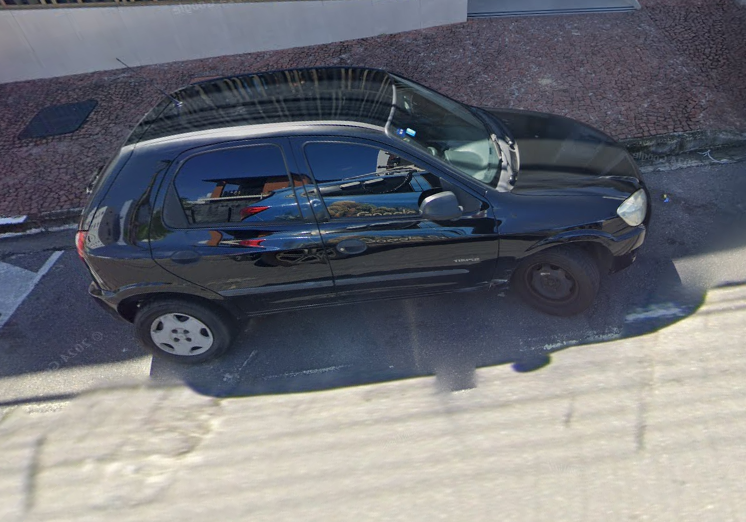car: (73, 54, 655, 366)
